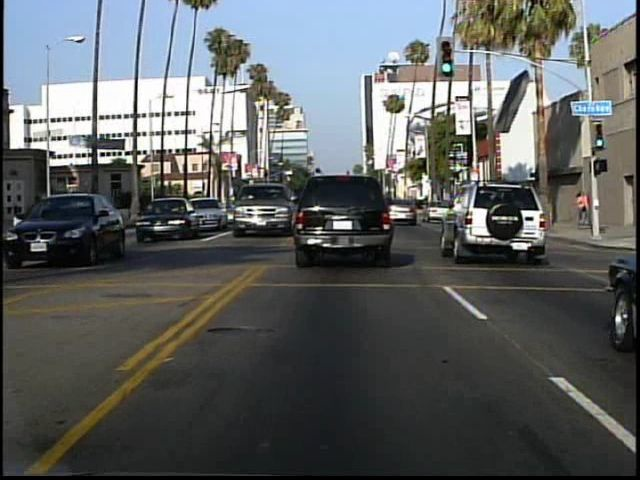person: (575, 187, 591, 228)
